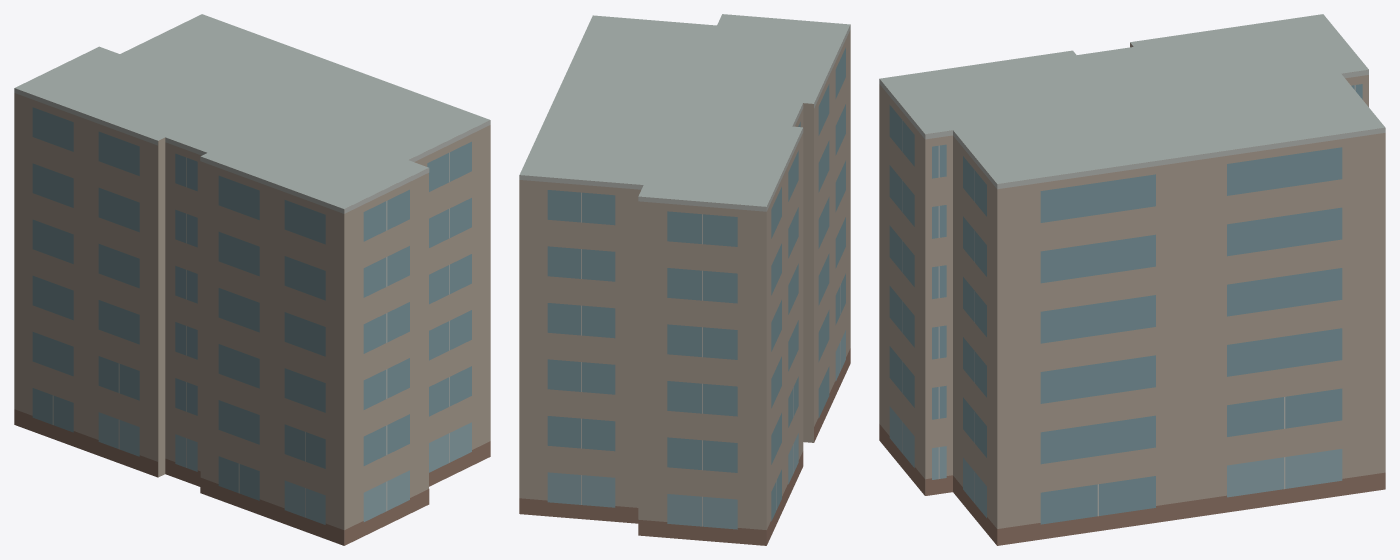
The model's file is survey-upis-32983558.glb.
3 views of the same model, side by side, from view 1: azimuth 30°, elevation 25°; view 2: azimuth 150°, elevation 25°; view 3: azimuth 270°, elevation 25° (orthographic). The views are drawn at different scales.
Parts seen in each view (by area): view 1: survey-upis-32983558.tmp; view 2: survey-upis-32983558.tmp; view 3: survey-upis-32983558.tmp.
Boxes of the visible parts, left/top/right/bottom form: survey-upis-32983558.tmp: left=14, top=14, right=490, bottom=545; survey-upis-32983558.tmp: left=519, top=14, right=850, bottom=545; survey-upis-32983558.tmp: left=879, top=14, right=1385, bottom=545.
Size of the model in its own units: 17.15 by 17 by 21.56.
